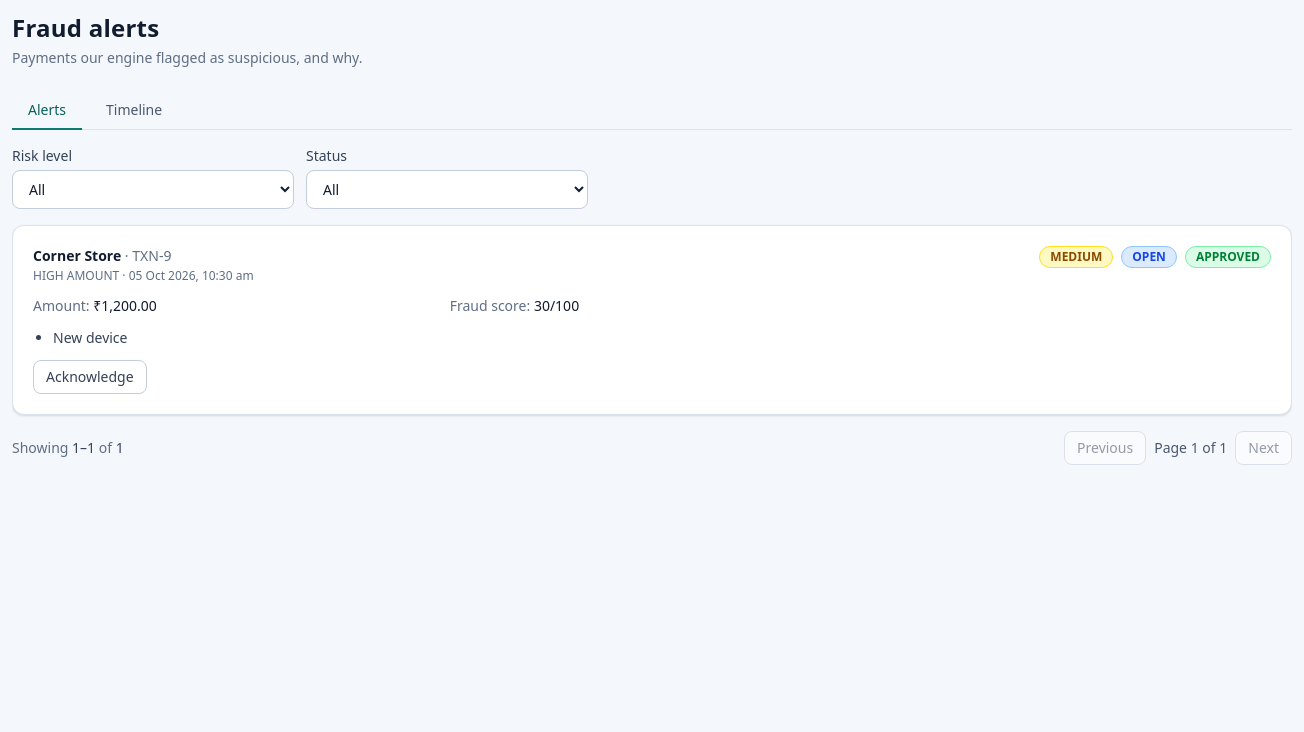
Test: A-02 timeline tab on the Fraud alerts page › loads the feed with limit=50 only when the tab is opened; the alert list keeps working
The image size is (1304, 732).
Expected: the text "Corner Store" is shown, [33,246,121,265]
Click the tab "Timeline": coordinates (134, 111) [90,92,178,130]
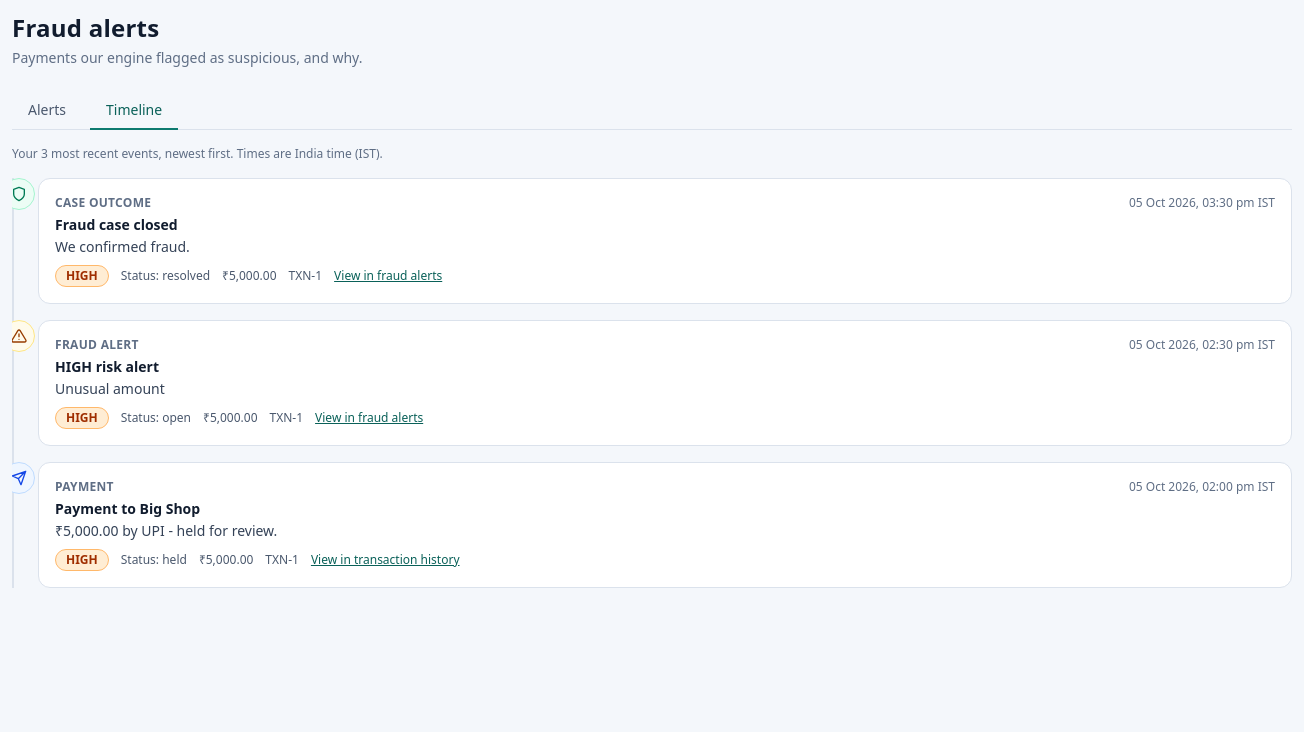
Expected: the list named "fraud timeline" is shown, [12,178,1292,588]
Click the tab "Alerts": coordinates (47, 111) [12,92,82,130]
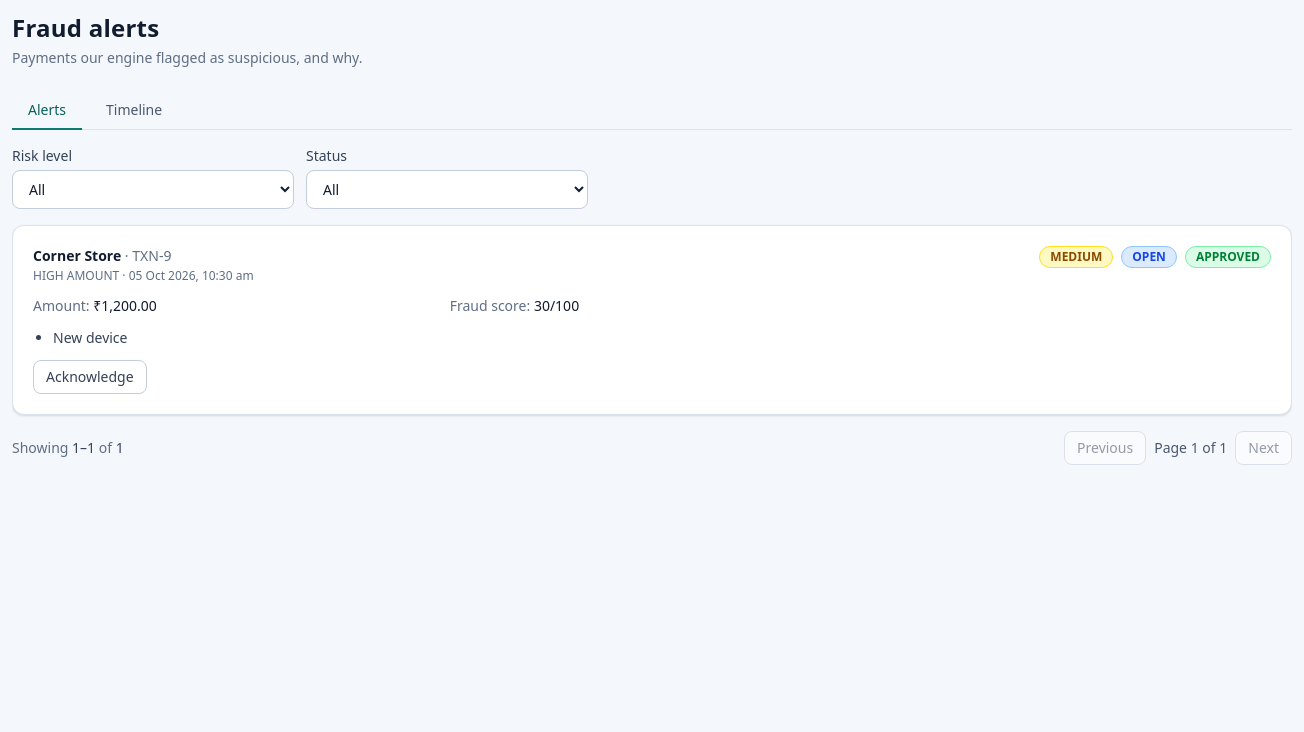
Expected: the text "Corner Store" is shown, [33,246,121,265]
